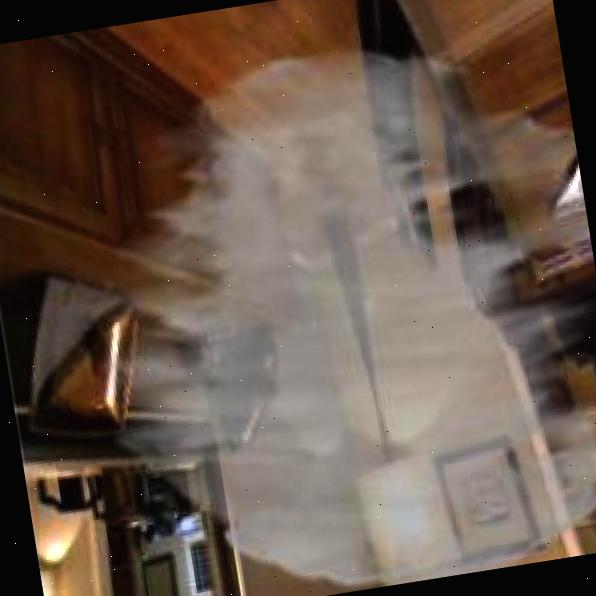smoke: (53, 12, 596, 596)
